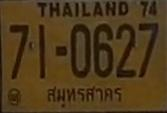0: (70, 23, 90, 77)
1: (38, 24, 45, 77)
2: (116, 23, 136, 77)
6: (93, 24, 112, 76)
7: (138, 22, 158, 76), (9, 24, 28, 78)
SKN: (44, 81, 125, 107)
